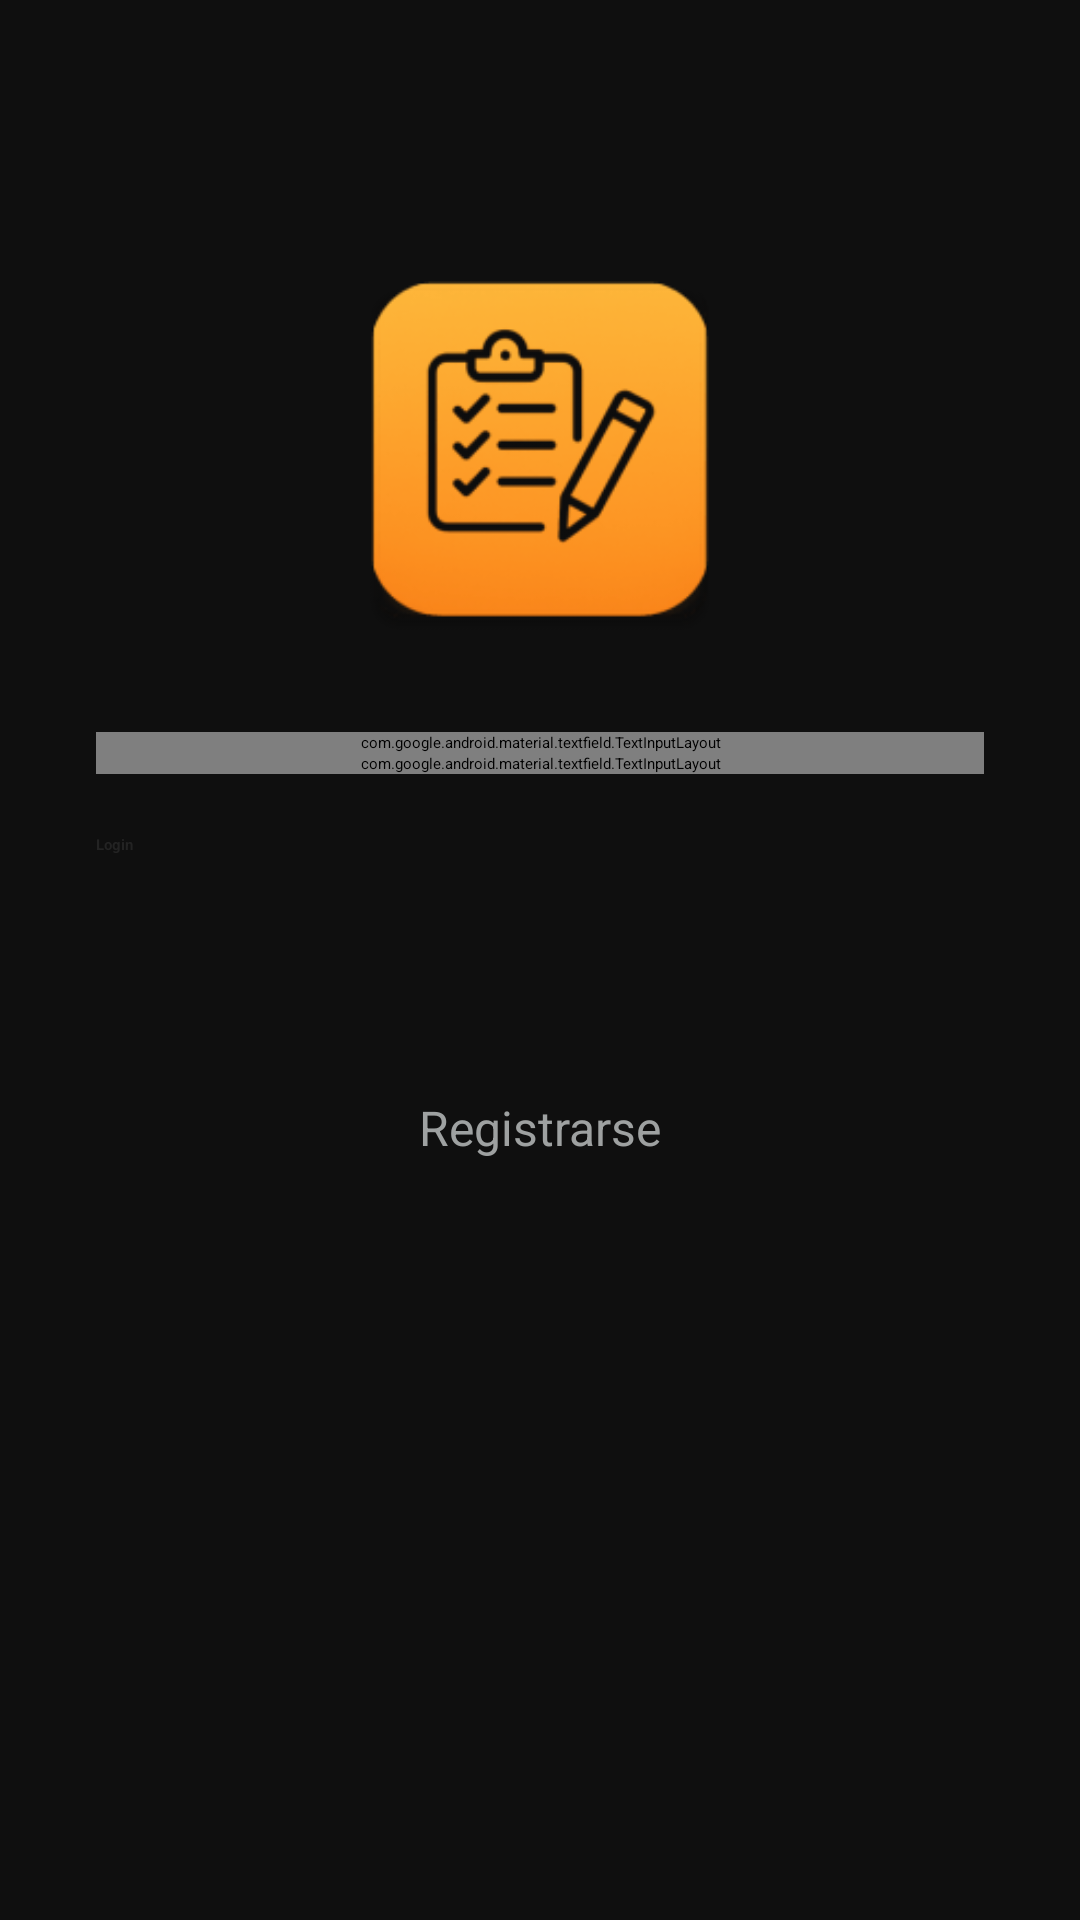

Where icons sit on this 1080px x 1920px app screen, as (x1, y1, x2, y2):
app: (372, 282, 708, 617)
